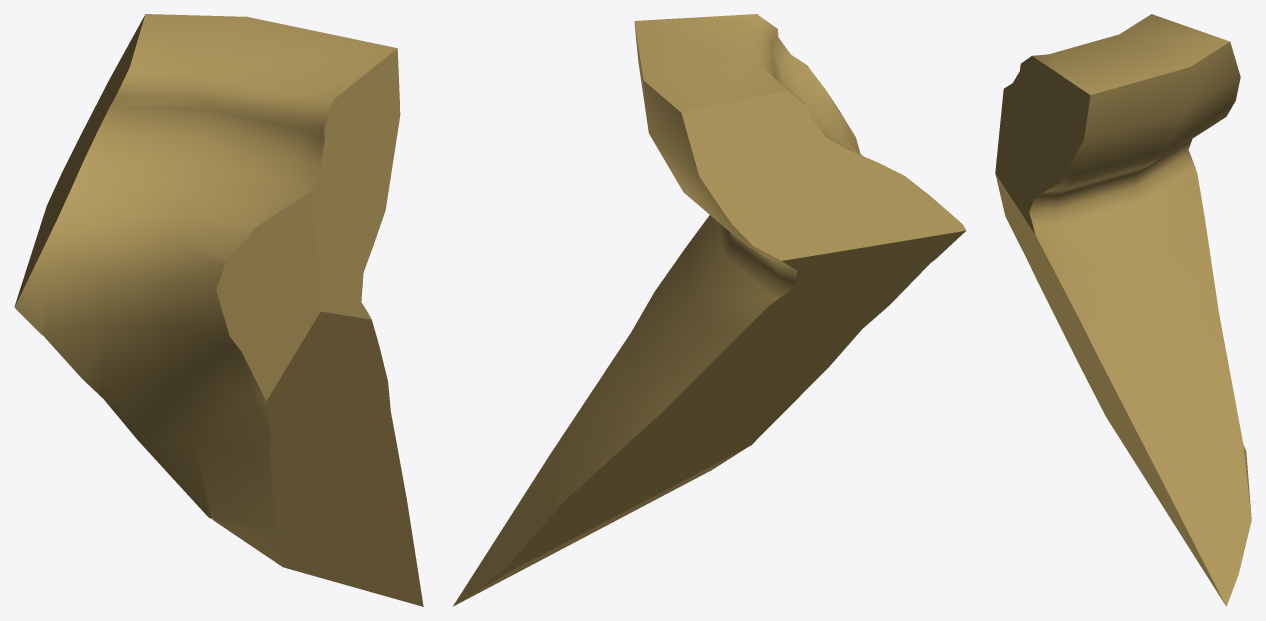
File: broken_pot_cell_022_cell_007.fbx
3 views of the same model, side by side, from view 1: azimuth 30°, elevation 25°; view 2: azimuth 150°, elevation 25°; view 3: azimuth 270°, elevation 25° (orthographic). The views are drawn at different scales.
Visible parts, largest first — view 1: broken_pot_cell.022_cell.007; view 2: broken_pot_cell.022_cell.007; view 3: broken_pot_cell.022_cell.007.
Boxes of the visible parts, bbox=[...] form: broken_pot_cell.022_cell.007: bbox=[14, 14, 423, 606]; broken_pot_cell.022_cell.007: bbox=[453, 14, 966, 606]; broken_pot_cell.022_cell.007: bbox=[995, 14, 1251, 606].
Bounding box in the file's own units: 0.7269 × 0.9002 × 0.443.
